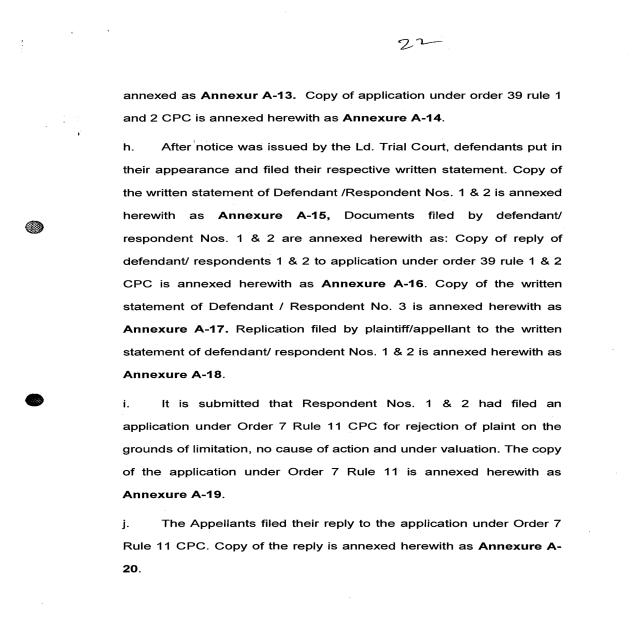page-number: (347, 4, 632, 88)
